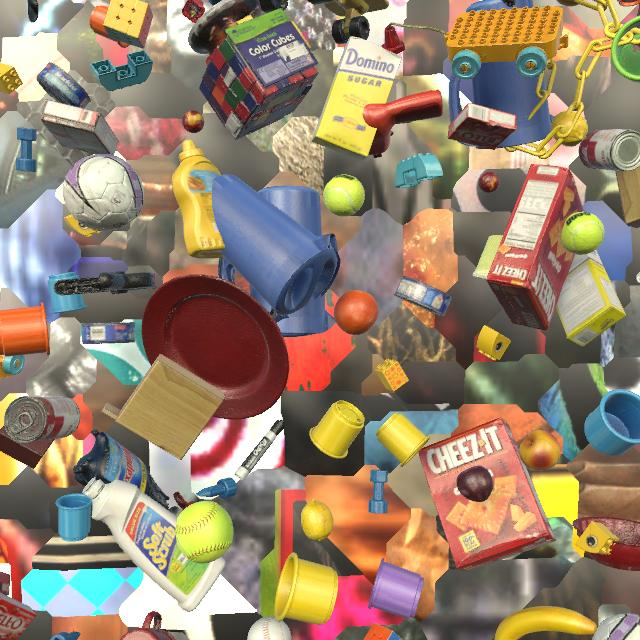ycb_003_cracker_box: (418, 417, 556, 572), (486, 164, 585, 330), (637, 4, 640, 47)
ycb_004_sugar_box: (312, 36, 402, 160), (556, 250, 626, 347)
ycb_005_tomato_soup_can: (4, 396, 80, 443), (579, 129, 640, 171)
ycb_006_mustard_bottle: (172, 140, 225, 259)
ycb_007_tuna_fish_can: (36, 62, 91, 108), (394, 276, 451, 317), (81, 322, 136, 344)
ycb_008_pudding_box: (41, 99, 119, 155), (0, 572, 11, 595)
ycb_009_gelatin_box: (448, 103, 517, 150), (0, 593, 37, 640)
ycb_011_banana: (495, 606, 597, 640)
ycb_014_lemon: (301, 498, 334, 541), (550, 111, 588, 147)
ycb_015_peach: (519, 430, 561, 470), (557, 0, 584, 7)
ycb_017_orange: (334, 290, 379, 335)
ycb_018_plum: (456, 466, 493, 502)
